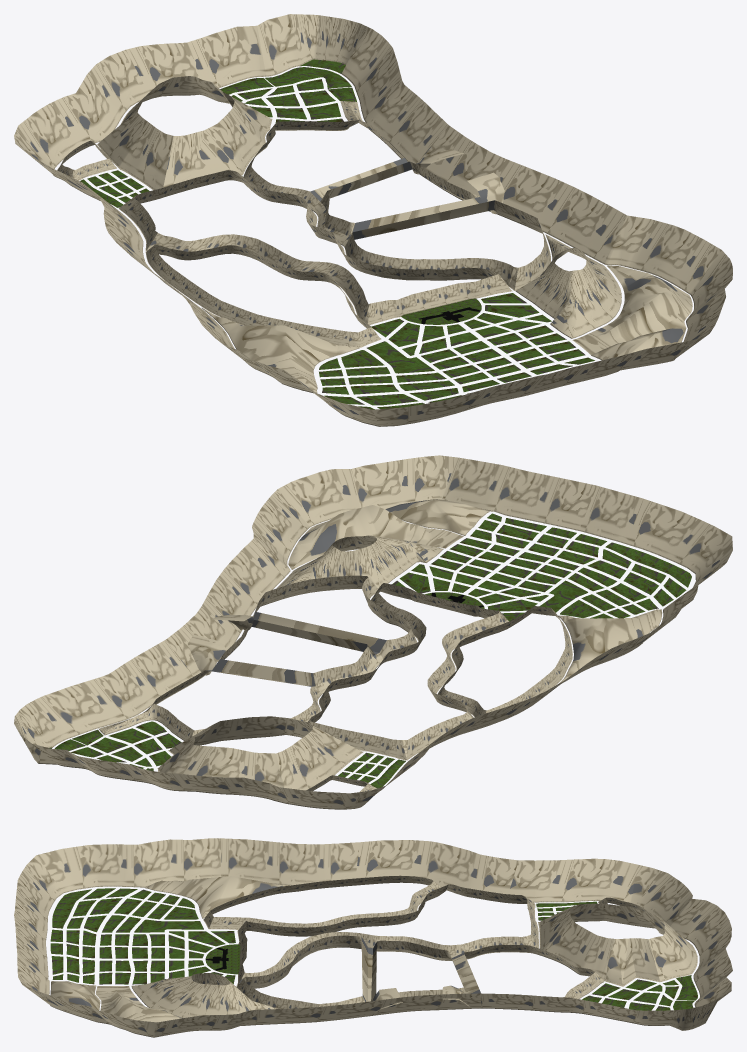
Rendered from Terrain_2.10.fbx.
3 renders of one model, top to bottom at view 1: azimuth 30°, elevation 25°; view 2: azimuth 150°, elevation 25°; view 3: azimuth 270°, elevation 25°, orthographic. The views are drawn at different scales.
Parts seen in each view (by area): view 1: nearend:dag, nearend:cimen, okulinside_grass; view 2: nearend:dag, nearend:cimen; view 3: nearend:dag, nearend:cimen, okulinside_grass.
Boxes of the visible parts, bbox=[...] form: nearend:dag: bbox=[14, 14, 732, 426]; nearend:cimen: bbox=[80, 59, 594, 409]; okulinside_grass: bbox=[401, 298, 481, 324]; nearend:dag: bbox=[14, 455, 732, 809]; nearend:cimen: bbox=[49, 513, 691, 788]; nearend:dag: bbox=[14, 838, 732, 1037]; nearend:cimen: bbox=[50, 888, 697, 1010]; okulinside_grass: bbox=[205, 944, 240, 974].
Bounding box in the file's own units: 279913 × 27909 × 455798.
